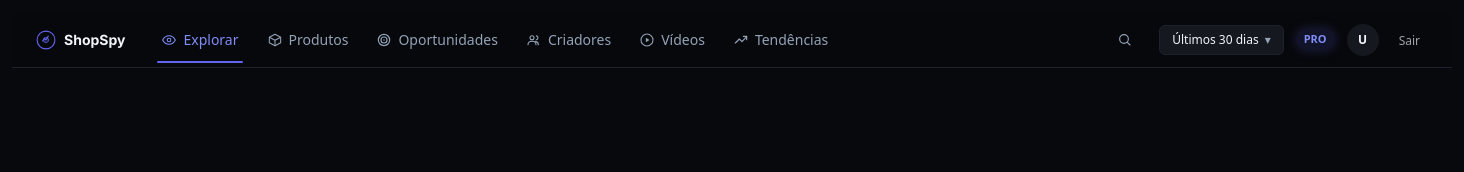
it: <Topbar /> — menu do avatar › clicar no backdrop fecha o menu
Click the button named "Abrir menu da conta".
click(1363, 40)  # box [1347, 24, 1379, 56]
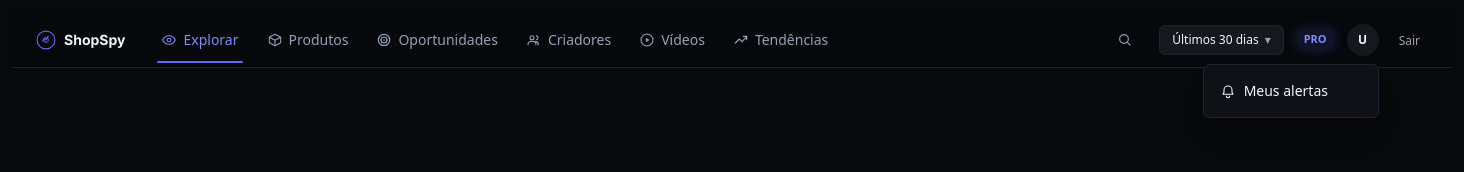
Check: the link "Meus alertas" is shown, box [1220, 80, 1328, 100]
Click the button named "Fechar menu da conta".
click(732, 40)  # box [12, 12, 1452, 67]
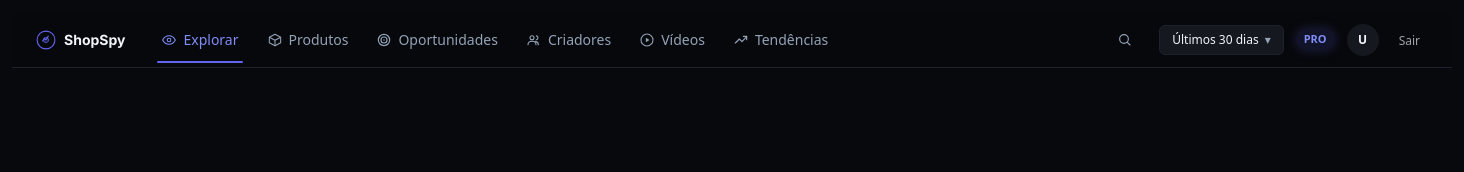
Check: the link "Meus alertas" is gone
